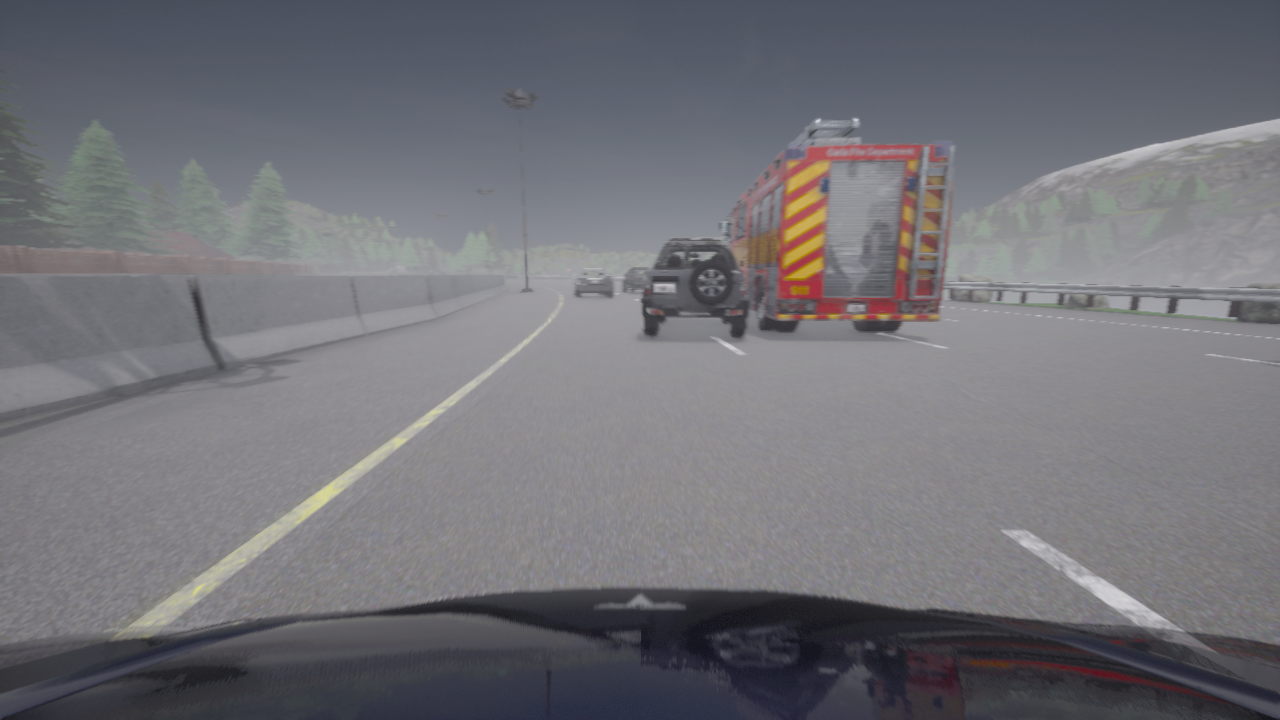cyclist: (0, 588, 1279, 719), (720, 119, 954, 332), (641, 238, 749, 337), (573, 269, 613, 298), (623, 268, 650, 293)
